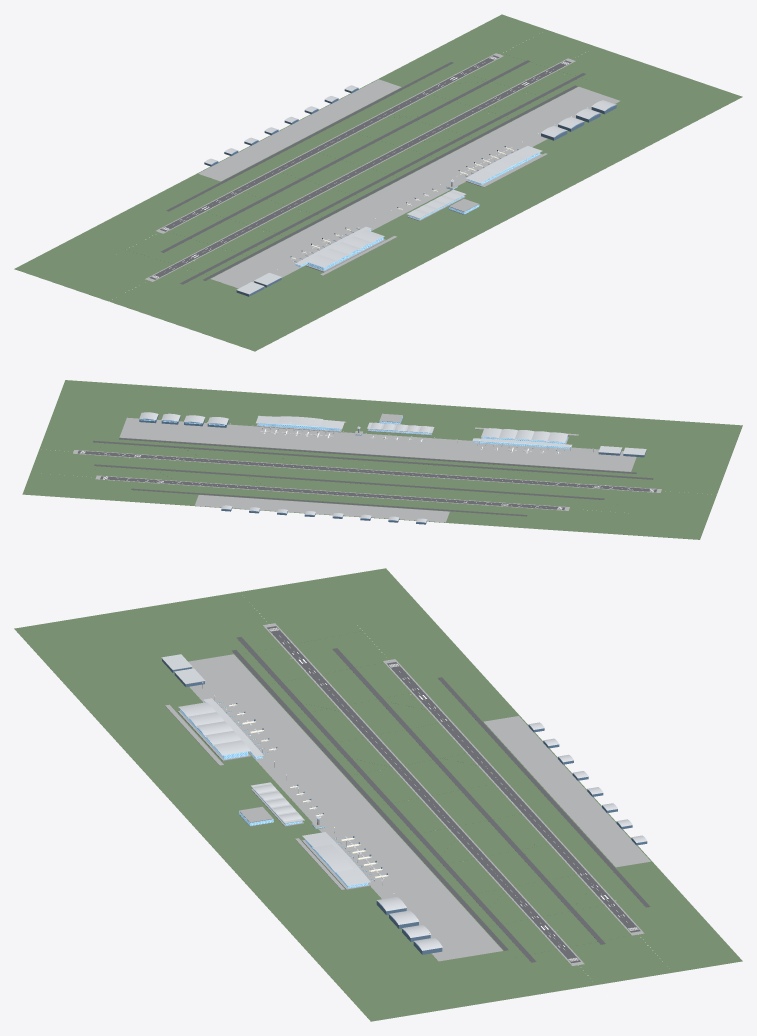
The model's file is tansonnhhat_airfield_full.glb.
3 views of the same model, one above another, from view 1: azimuth 30°, elevation 25°; view 2: azimuth 150°, elevation 25°; view 3: azimuth 270°, elevation 25° (orthographic). The views are drawn at different scales.
Visible parts, largest first — view 1: AIRFIELD_GRADED_TURF_PAD, APRONS_VIADUCTS_STRUCTURES, RUNWAYS_25L07R_25R07L_TAXIWAYS, TERMINALS_T1_T2_T3_AERO_ROOFS, VAECO_HANGARS_CARGO_STEEL, TERMINAL_CURTAINWALL_ATC_CAB; view 2: AIRFIELD_GRADED_TURF_PAD, APRONS_VIADUCTS_STRUCTURES, RUNWAYS_25L07R_25R07L_TAXIWAYS, TERMINALS_T1_T2_T3_AERO_ROOFS, TERMINAL_CURTAINWALL_ATC_CAB, VAECO_HANGARS_CARGO_STEEL, RWY_MARKINGS_AIRCRAFT_FLEET; view 3: AIRFIELD_GRADED_TURF_PAD, APRONS_VIADUCTS_STRUCTURES, RUNWAYS_25L07R_25R07L_TAXIWAYS, TERMINALS_T1_T2_T3_AERO_ROOFS, VAECO_HANGARS_CARGO_STEEL, TERMINAL_CURTAINWALL_ATC_CAB, RWY_MARKINGS_AIRCRAFT_FLEET.
Part boxes in pixels (x1=…): AIRFIELD_GRADED_TURF_PAD: x1=14, y1=14, x2=742, y2=351; APRONS_VIADUCTS_STRUCTURES: x1=145, y1=53, x2=619, y2=288; RUNWAYS_25L07R_25R07L_TAXIWAYS: x1=149, y1=55, x2=585, y2=284; TERMINALS_T1_T2_T3_AERO_ROOFS: x1=204, y1=85, x2=616, y2=294; VAECO_HANGARS_CARGO_STEEL: x1=204, y1=88, x2=616, y2=296; TERMINAL_CURTAINWALL_ATC_CAB: x1=294, y1=149, x2=540, y2=270; AIRFIELD_GRADED_TURF_PAD: x1=22, y1=380, x2=742, y2=539; APRONS_VIADUCTS_STRUCTURES: x1=73, y1=413, x2=661, y2=522; RUNWAYS_25L07R_25R07L_TAXIWAYS: x1=77, y1=438, x2=657, y2=516; TERMINALS_T1_T2_T3_AERO_ROOFS: x1=139, y1=412, x2=646, y2=522; TERMINAL_CURTAINWALL_ATC_CAB: x1=140, y1=415, x2=570, y2=448; VAECO_HANGARS_CARGO_STEEL: x1=139, y1=415, x2=646, y2=524; RWY_MARKINGS_AIRCRAFT_FLEET: x1=80, y1=426, x2=654, y2=509; AIRFIELD_GRADED_TURF_PAD: x1=14, y1=568, x2=742, y2=1021; APRONS_VIADUCTS_STRUCTURES: x1=165, y1=623, x2=650, y2=965; RUNWAYS_25L07R_25R07L_TAXIWAYS: x1=232, y1=626, x2=650, y2=963; TERMINALS_T1_T2_T3_AERO_ROOFS: x1=161, y1=654, x2=646, y2=950; VAECO_HANGARS_CARGO_STEEL: x1=162, y1=659, x2=647, y2=954; TERMINAL_CURTAINWALL_ATC_CAB: x1=180, y1=701, x2=374, y2=888; RWY_MARKINGS_AIRCRAFT_FLEET: x1=229, y1=627, x2=638, y2=961.
Bounding box in the file's own units: 4792 × 56.4 × 3257.
